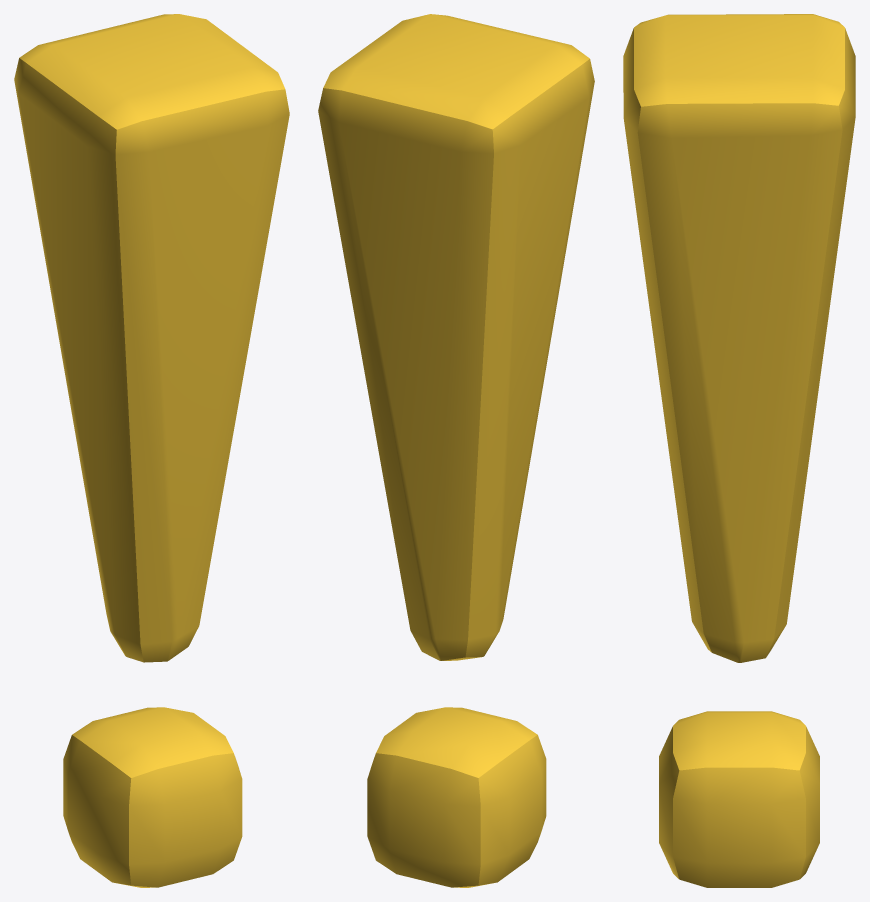
Rendered from ExclamationMark.fbx.
The picture shows the model from 3 angles, left to right: view 1: azimuth 30°, elevation 25°; view 2: azimuth 150°, elevation 25°; view 3: azimuth 270°, elevation 25°; orthographic projection.
Visible parts, largest first — view 1: ExclamationMark; view 2: ExclamationMark; view 3: ExclamationMark.
Part boxes in pixels (x1,y1,x2,y2): ExclamationMark: (14,14,289,887); ExclamationMark: (318,14,594,887); ExclamationMark: (623,14,855,887).
Bounding box in the file's own units: 1.28 × 5.04 × 1.28.
Materials: 1 (1 with a texture image).
